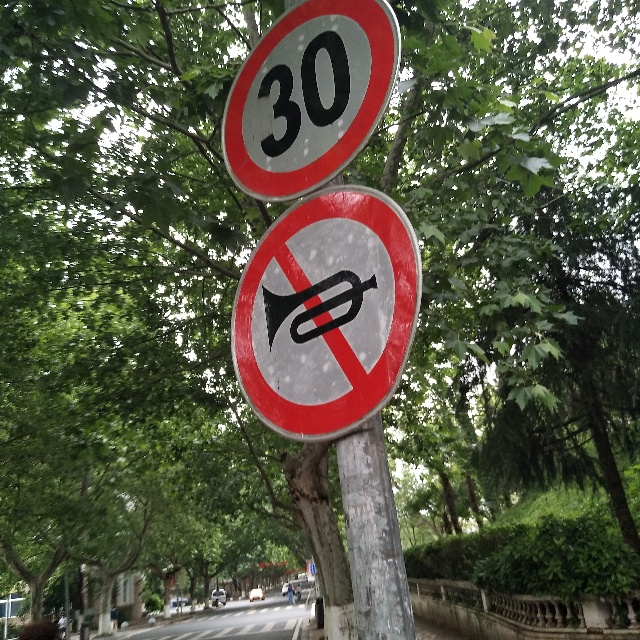nohonk: (239, 249, 406, 393)
